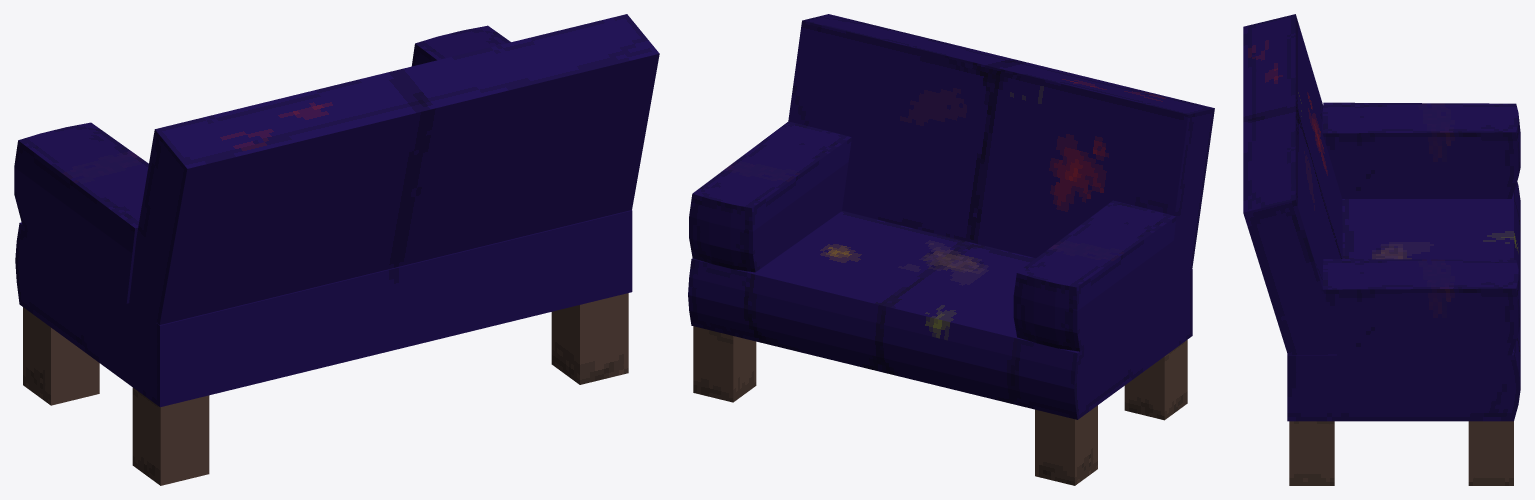
Rendered from Couch.gltf.
3 renders of one model, left to right at view 1: azimuth 30°, elevation 25°; view 2: azimuth 150°, elevation 25°; view 3: azimuth 270°, elevation 25°, orthographic. The views are drawn at different scales.
Parts seen in each view (by area): view 1: Back, Bottom, Side1 (×2), Legs; view 2: Back, Bottom, Side1 (×2), Legs; view 3: Side1 (×2), Bottom, Back, Legs.
Boxes of the visible parts, x1=… form: Back: x1=128, y1=14, x2=659, y2=324; Bottom: x1=15, y1=210, x2=632, y2=407; Side1 (×2): x1=14, y1=25, x2=510, y2=303; Legs: x1=23, y1=293, x2=628, y2=485; Back: x1=788, y1=14, x2=1214, y2=286; Bottom: x1=688, y1=211, x2=1192, y2=419; Side1 (×2): x1=689, y1=121, x2=1176, y2=351; Legs: x1=693, y1=326, x2=1187, y2=485; Side1 (×2): x1=1321, y1=102, x2=1520, y2=355; Bottom: x1=1287, y1=182, x2=1520, y2=421; Back: x1=1243, y1=14, x2=1342, y2=354; Legs: x1=1289, y1=421, x2=1513, y2=485.
Size of the model in its own units: 3.05 by 2.18 by 1.91.
Materials: 7 (7 with a texture image).
